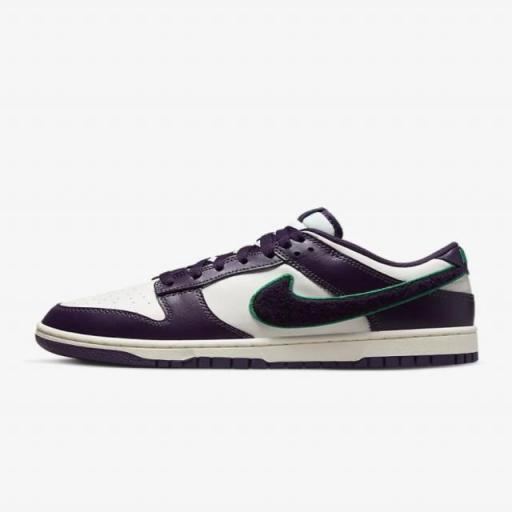Nike: (246, 262, 465, 332)
